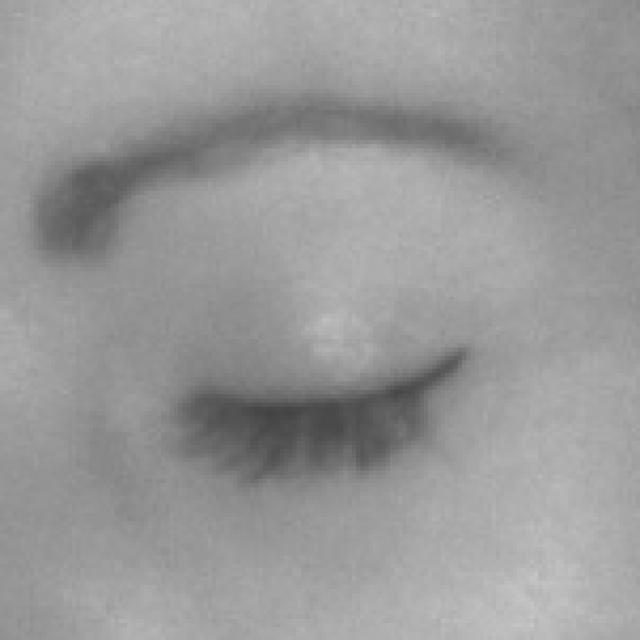close: (0, 62, 573, 579)
